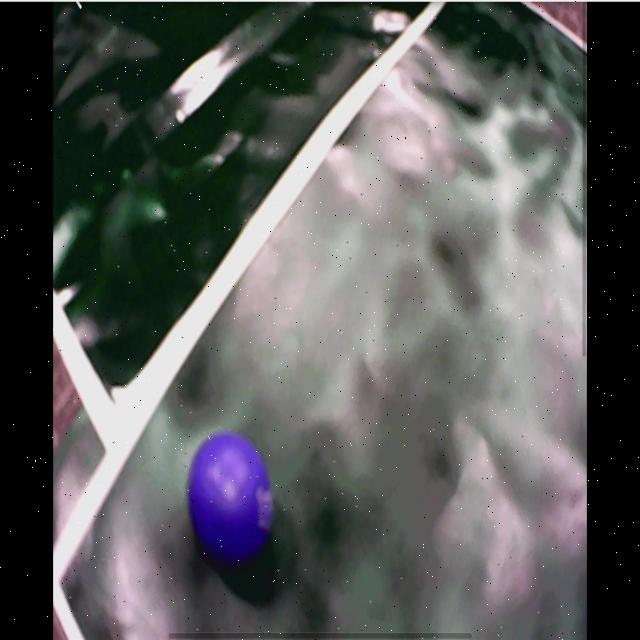ball: (189, 433, 276, 560)
